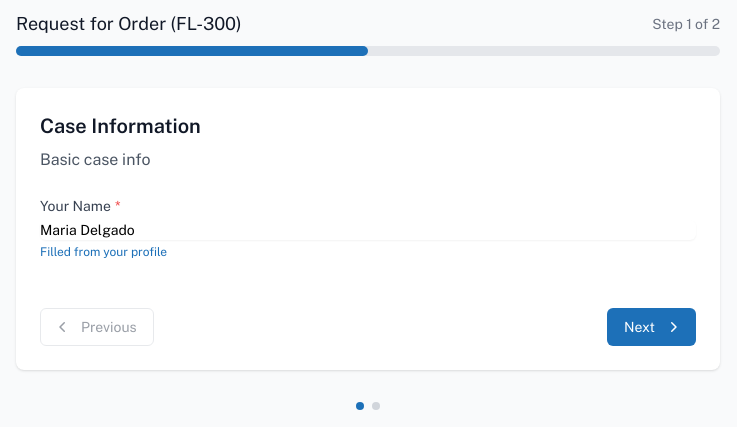
Test: GuidedIntake prefill ordering › profile badge clears on a step whose fields were not autofilled
This screenshot has width=737, height=427.
Expected: the field labelled "Your Name*" holds "Maria Delgado", [40,220,696,240]
Expected: the text "Filled from your profile" is shown, [40,245,167,259]
What coordinates should you click on to do the following:
click the button "Next"
I would click on:
 (652, 327)
Its box is [607,308,696,346].
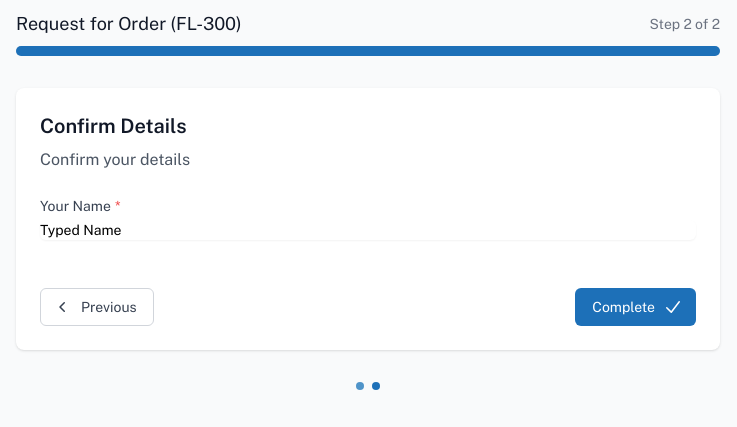
Expected: the heading "Confirm Details" is shown, [40,114,186,138]
Expected: the field labelled "Your Name*" holds "Typed Name", [40,220,696,240]
Expected: the text "Filled from your profile" is gone
